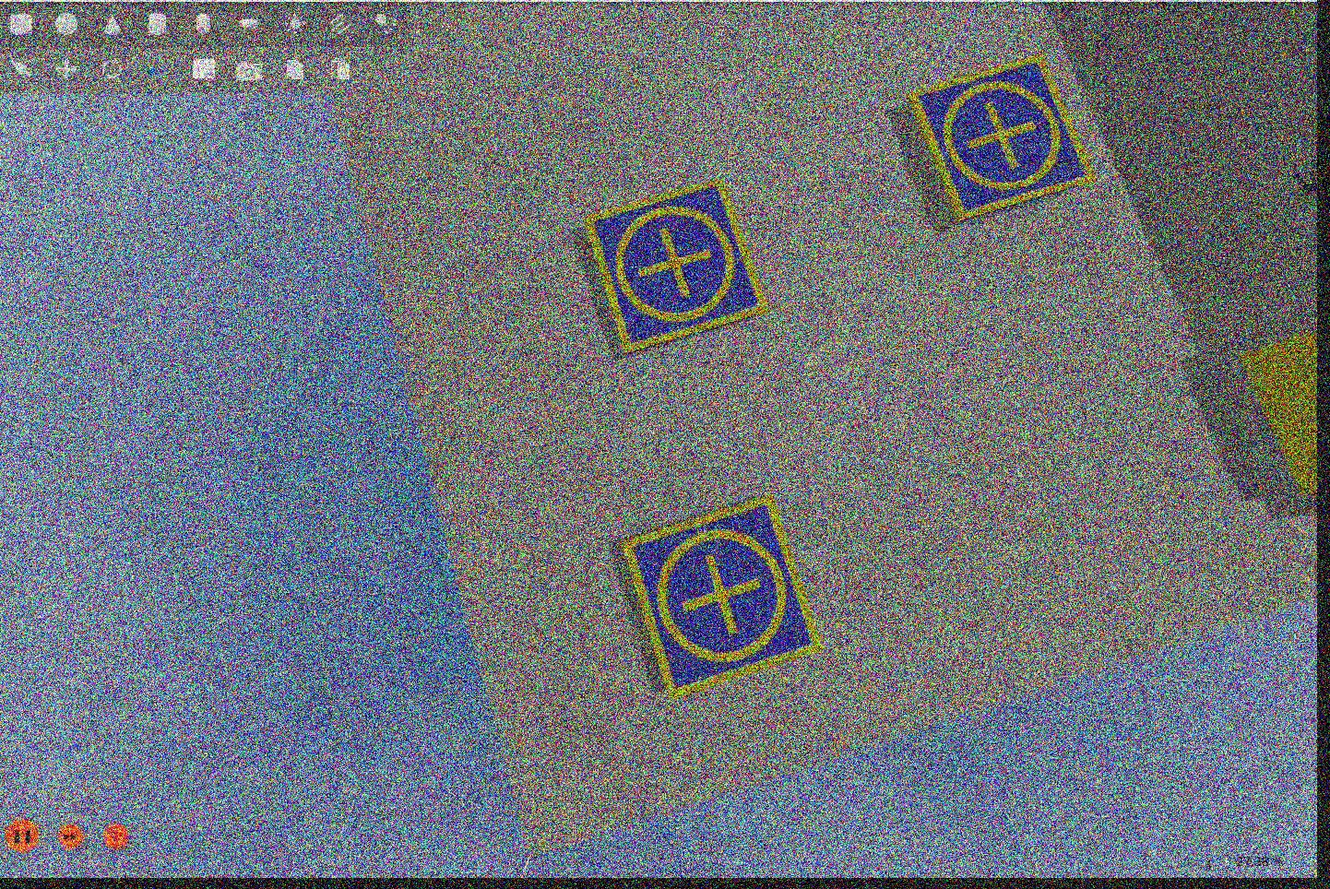small_base: (618, 492, 825, 699), (585, 176, 769, 356), (908, 56, 1100, 225)
